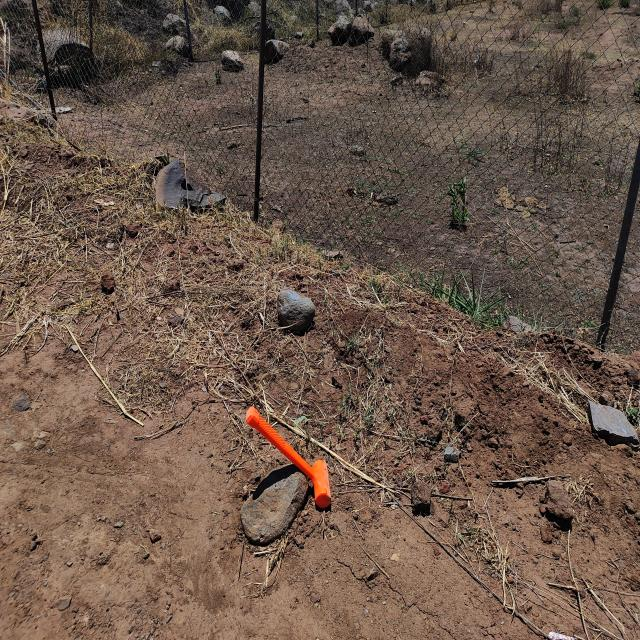Orange_hammer: (244, 404, 332, 510)
